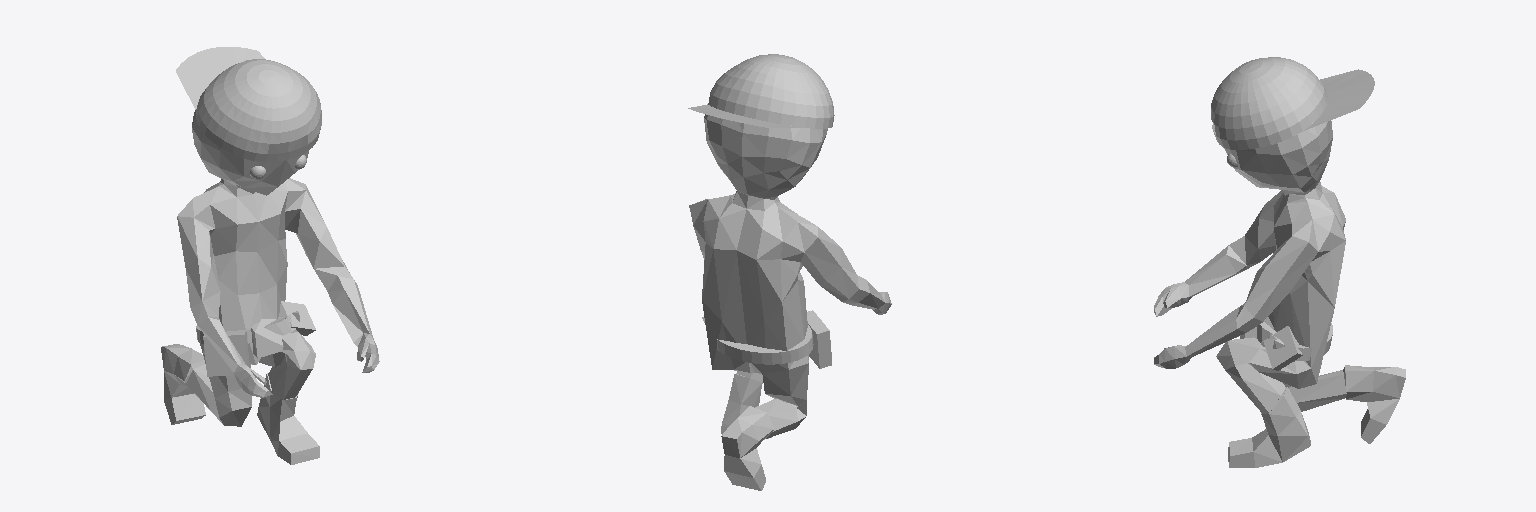
Rendered from Main_Character_TireRepair_20.obj.
The picture shows the model from 3 angles: view 1: azimuth 30°, elevation 25°; view 2: azimuth 150°, elevation 25°; view 3: azimuth 270°, elevation 25°; orthographic projection.
Visible parts, largest first — view 1: Main_Character_Test.003_Main_Character_Test.004; view 2: Main_Character_Test.003_Main_Character_Test.004; view 3: Main_Character_Test.003_Main_Character_Test.004.
Part boxes in pixels (x1,y1,x2,y2): Main_Character_Test.003_Main_Character_Test.004: (161, 47, 379, 464); Main_Character_Test.003_Main_Character_Test.004: (688, 54, 891, 490); Main_Character_Test.003_Main_Character_Test.004: (1154, 57, 1405, 467).
Bounding box in the file's own units: 1.44 × 3.29 × 1.95.